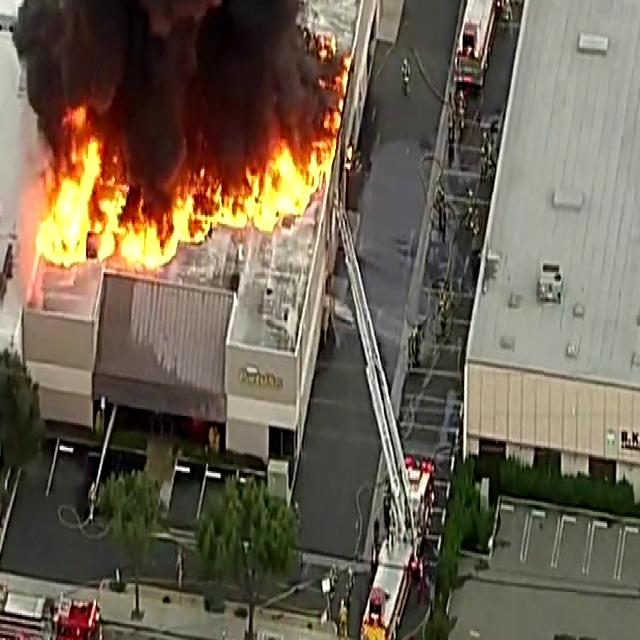fire: (105, 148, 207, 276), (227, 158, 314, 235), (50, 146, 100, 261)
smoke: (55, 0, 266, 112)
